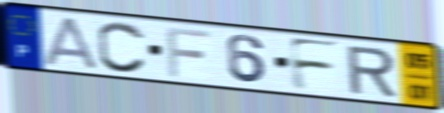6: (225, 33, 268, 85)
A: (42, 15, 101, 72)
C: (96, 19, 149, 75)
F: (286, 35, 342, 93), (164, 25, 213, 79)
R: (344, 45, 399, 99)
